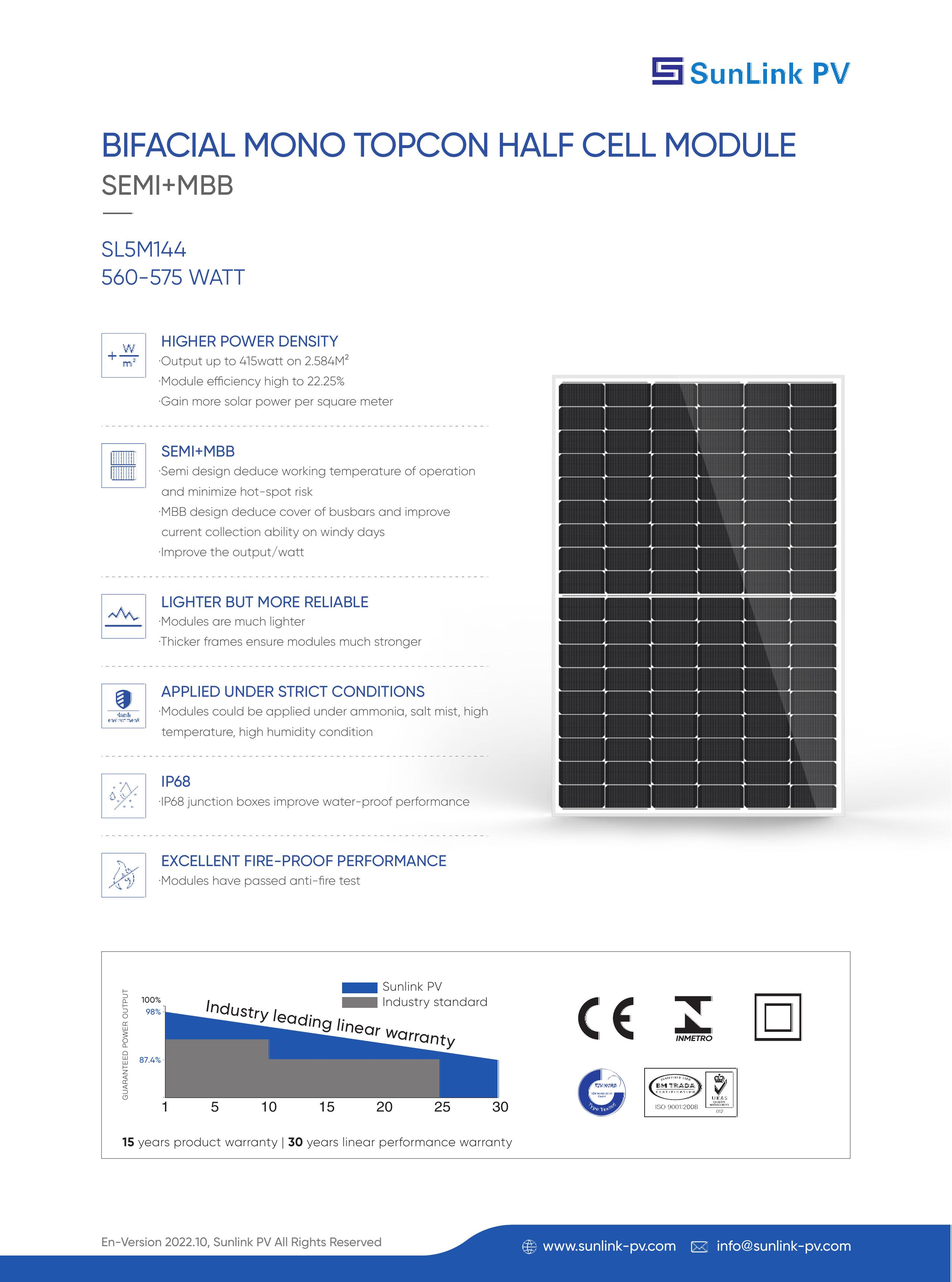no object: (141, 1084, 537, 1126)
